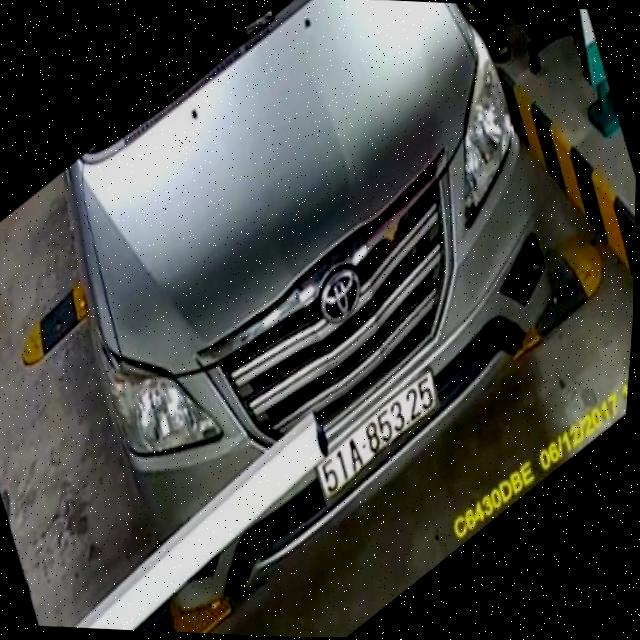car: (23, 0, 574, 636)
plate: (312, 362, 445, 513)
